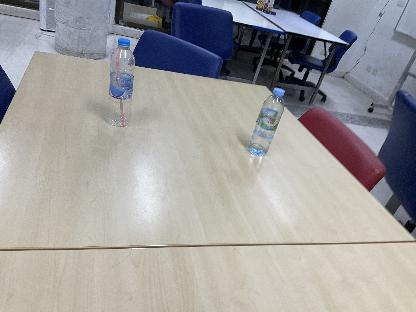Plastic Bottle: (106, 38, 136, 128), (249, 86, 285, 158)
